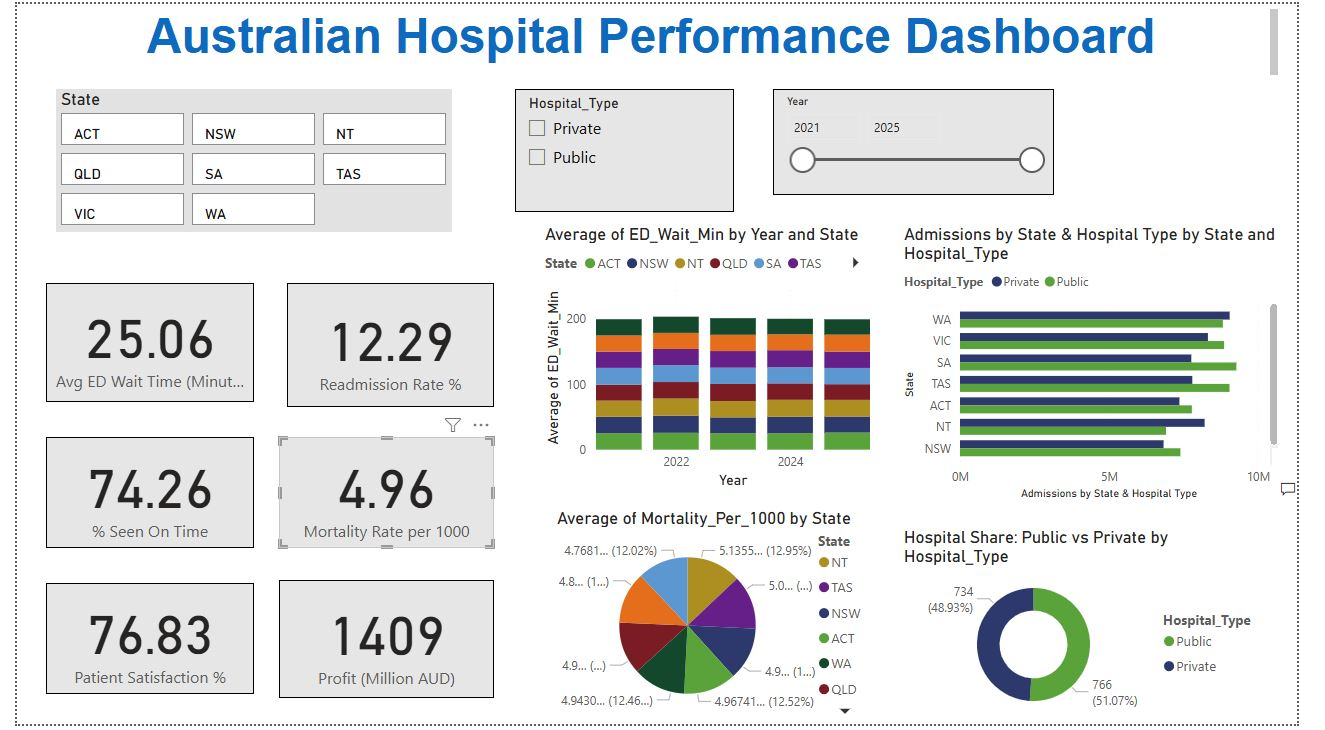

This screenshot's page, from the dashboard's own definition file:
{"tool":"powerbi","page":{"name":"Page 4","canvas":[1280,720],"ordinal":0},"visuals":[{"type":"textbox","box":[9.6,0,1256,79.3],"z":0},{"type":"card","fields":{"Values":["Avg(AU_Healthcare_1500_Rows.ED_Wait_Min)"]},"box":[29,279,208,119],"z":1000},{"type":"lineStackedColumnComboChart","fields":{"Category":["AU_Healthcare_1500_Rows.Year"],"Series":["AU_Healthcare_1500_Rows.State"],"Y":["Avg(AU_Healthcare_1500_Rows.ED_Wait_Min)"]},"box":[523,220,335,269],"z":2000},{"type":"card","fields":{"Values":["Avg(AU_Healthcare_1500_Rows.Seen_On_Time_Percent)"]},"box":[29,433,208,111],"z":3000},{"type":"card","fields":{"Values":["Avg(AU_Healthcare_1500_Rows.Patient_Satisfaction_Percent)"]},"box":[29,579,208,111],"z":4000},{"type":"card","fields":{"Values":["Avg(AU_Healthcare_1500_Rows.Readmission_30_Days_Percent)"]},"box":[270,279,207,124],"z":5000},{"type":"card","fields":{"Values":["Avg(AU_Healthcare_1500_Rows.Mortality_Per_1000)"]},"box":[262,433,215,111],"z":6000},{"type":"card","fields":{"Values":["Count(AU_Healthcare_1500_Rows.Profit_AUD)"]},"box":[262,576,215,118],"z":7000},{"type":"advancedSlicerVisual","fields":{"Values":["AU_Healthcare_1500_Rows.State"]},"box":[39,85,396,143],"z":8000},{"type":"slicer","fields":{"Values":["AU_Healthcare_1500_Rows.Hospital_Type"]},"box":[498,85,219,123],"z":9000},{"type":"slicer","fields":{"Values":["AU_Healthcare_1500_Rows.Year"]},"box":[756,85,281,106],"z":10000},{"type":"clusteredBarChart","fields":{"Series":["AU_Healthcare_1500_Rows.Hospital_Type"],"Category":["AU_Healthcare_1500_Rows.State"],"Y":["Sum(AU_Healthcare_1500_Rows.Admissions)"]},"box":[882.2,219.9,383.4,280],"z":11000},{"type":"pieChart","fields":{"Category":["AU_Healthcare_1500_Rows.State","AU_Healthcare_1500_Rows.Year"],"Y":["Avg(AU_Healthcare_1500_Rows.Mortality_Per_1000)"]},"box":[535,504,323,216],"z":12000},{"type":"donutChart","fields":{"Category":["AU_Healthcare_1500_Rows.Hospital_Type"],"Y":["CountNonNull(AU_Healthcare_1500_Rows.Hospital_Type)"]},"box":[882.2,522.8,372.6,197.1],"z":13000},{"type":"qnaVisual","box":[1255,444,25,56],"z":14000}]}

Visuals, with their boxes in screenshot pixels (x1, y1, x2, y2), scaled from the page's 1280x720 canvas onto the 1325x730 screenshot:
textbox: left=10, top=0, right=1310, bottom=80
card - Avg(AU_Healthcare_1500_Rows.ED_Wait_Min): left=30, top=283, right=245, bottom=404
lineStackedColumnComboChart - AU_Healthcare_1500_Rows.Year x AU_Healthcare_1500_Rows.State: left=541, top=223, right=888, bottom=496
card - Avg(AU_Healthcare_1500_Rows.Seen_On_Time_Percent): left=30, top=439, right=245, bottom=552
card - Avg(AU_Healthcare_1500_Rows.Patient_Satisfaction_Percent): left=30, top=587, right=245, bottom=700
card - Avg(AU_Healthcare_1500_Rows.Readmission_30_Days_Percent): left=279, top=283, right=494, bottom=409
card - Avg(AU_Healthcare_1500_Rows.Mortality_Per_1000): left=271, top=439, right=494, bottom=552
card - Count(AU_Healthcare_1500_Rows.Profit_AUD): left=271, top=584, right=494, bottom=704
advancedSlicerVisual - AU_Healthcare_1500_Rows.State: left=40, top=86, right=450, bottom=231
slicer - AU_Healthcare_1500_Rows.Hospital_Type: left=516, top=86, right=742, bottom=211
slicer - AU_Healthcare_1500_Rows.Year: left=783, top=86, right=1073, bottom=194
clusteredBarChart - AU_Healthcare_1500_Rows.Hospital_Type x AU_Healthcare_1500_Rows.State: left=913, top=223, right=1310, bottom=507
pieChart - AU_Healthcare_1500_Rows.State x AU_Healthcare_1500_Rows.Year: left=554, top=511, right=888, bottom=729
donutChart - AU_Healthcare_1500_Rows.Hospital_Type x CountNonNull(AU_Healthcare_1500_Rows.Hospital_Type): left=913, top=530, right=1299, bottom=729
qnaVisual: left=1299, top=450, right=1324, bottom=507
